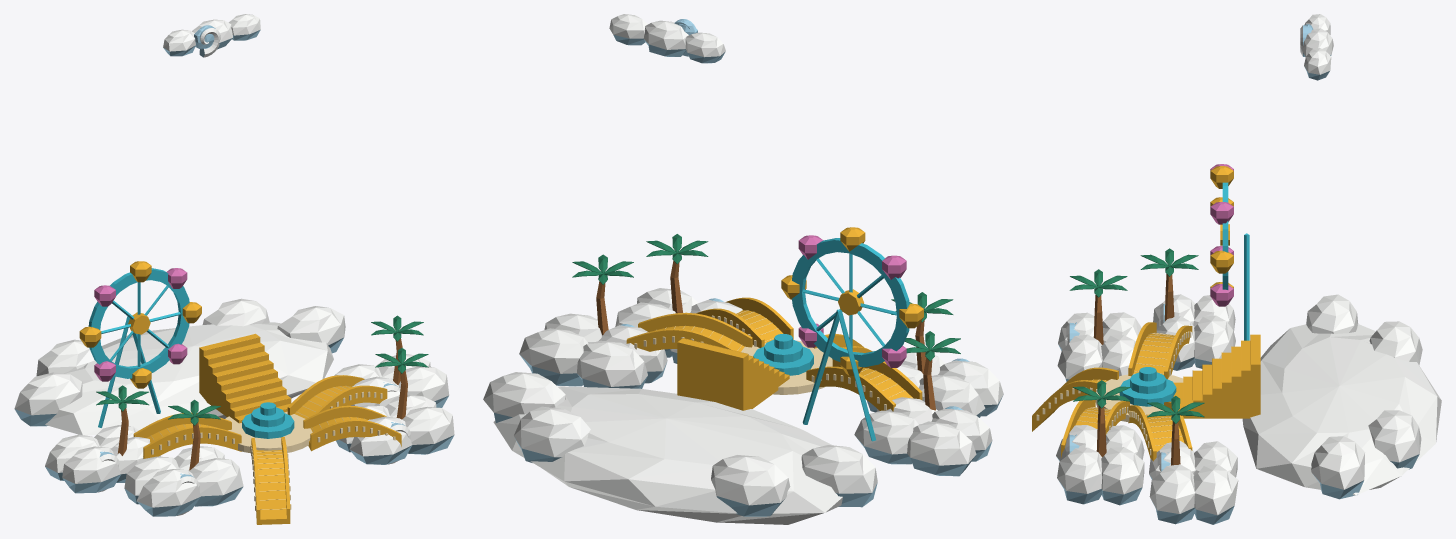
File: decoration.glb
The picture shows the model from 3 angles, left to right: view 1: azimuth 30°, elevation 25°; view 2: azimuth 150°, elevation 25°; view 3: azimuth 270°, elevation 25°; orthographic projection. The views are drawn at different scales.
Visible parts, largest first — view 1: 10_R3A_Vegas_CloudIslands, 10_R3A_Vegas_BridgesWheelAndGardens; view 2: 10_R3A_Vegas_CloudIslands, 10_R3A_Vegas_BridgesWheelAndGardens; view 3: 10_R3A_Vegas_CloudIslands, 10_R3A_Vegas_BridgesWheelAndGardens.
Boxes of the visible parts, x1,y1,x2,y2 form: 10_R3A_Vegas_CloudIslands: (14, 14, 454, 516); 10_R3A_Vegas_BridgesWheelAndGardens: (79, 261, 428, 524); 10_R3A_Vegas_CloudIslands: (483, 14, 1003, 524); 10_R3A_Vegas_BridgesWheelAndGardens: (572, 227, 960, 441); 10_R3A_Vegas_CloudIslands: (1056, 14, 1441, 524); 10_R3A_Vegas_BridgesWheelAndGardens: (1032, 164, 1260, 465).
Bounding box in the file's own units: 1.55 × 1.52 × 1.31.
